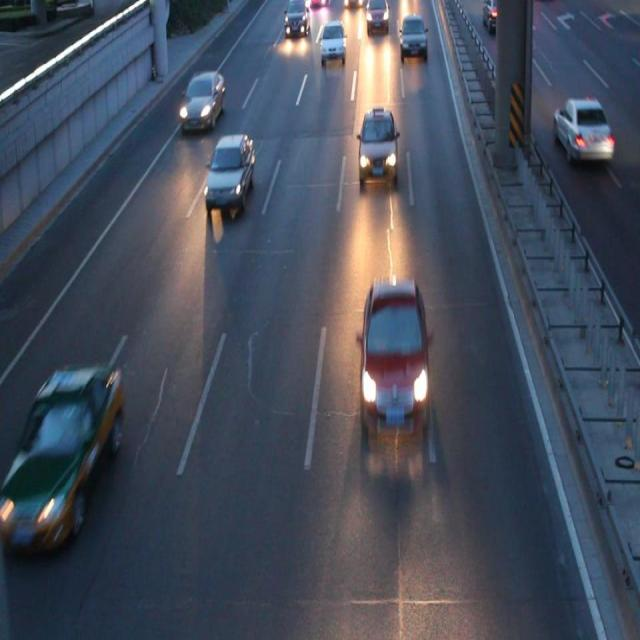car: (1, 367, 122, 547), (359, 279, 428, 433), (552, 102, 611, 160), (204, 137, 254, 204), (358, 113, 396, 182), (179, 72, 225, 126), (399, 16, 426, 56), (482, 1, 513, 31), (320, 21, 345, 57), (285, 1, 309, 36), (366, 1, 388, 30)
